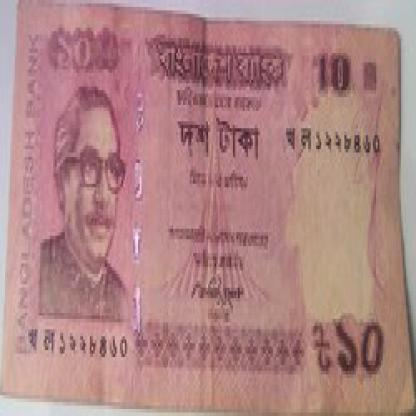Ten Taka: (335, 302, 391, 388), (52, 27, 110, 80), (310, 42, 354, 108)
